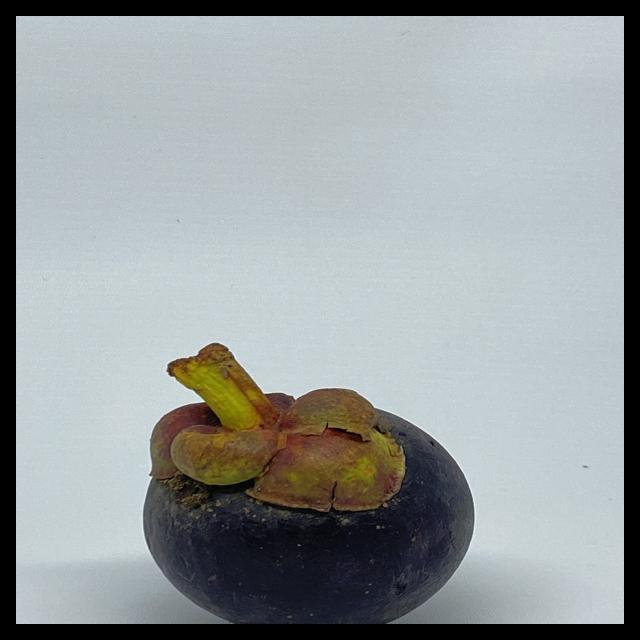mangosteen: (112, 324, 482, 624)
